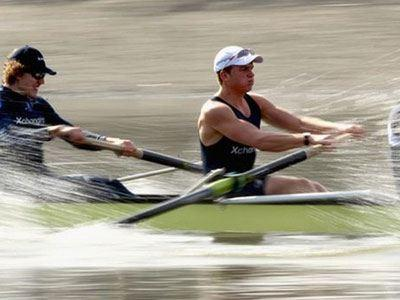person: (198, 46, 366, 200)
